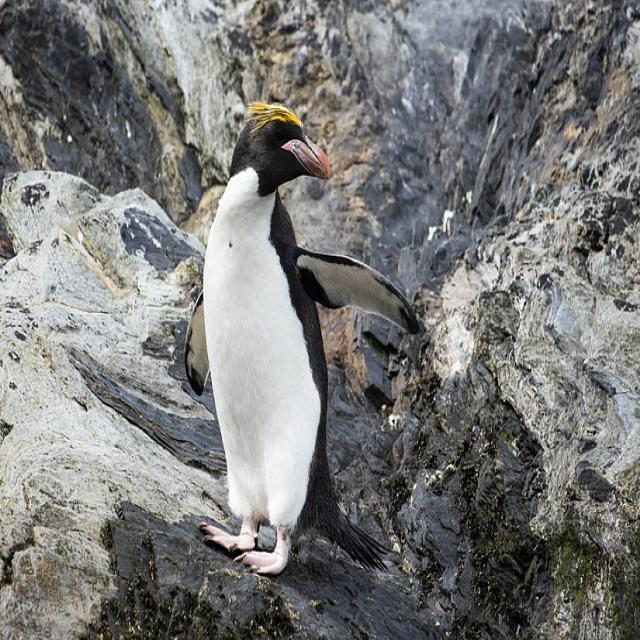penguin: (183, 104, 423, 580)
